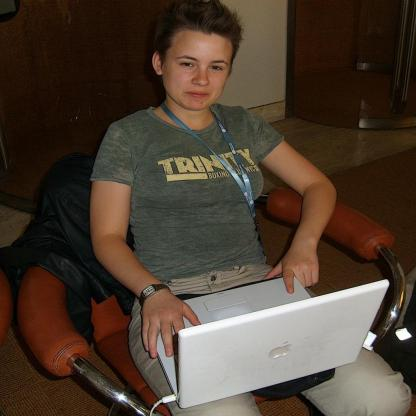board: (138, 280, 388, 410)
